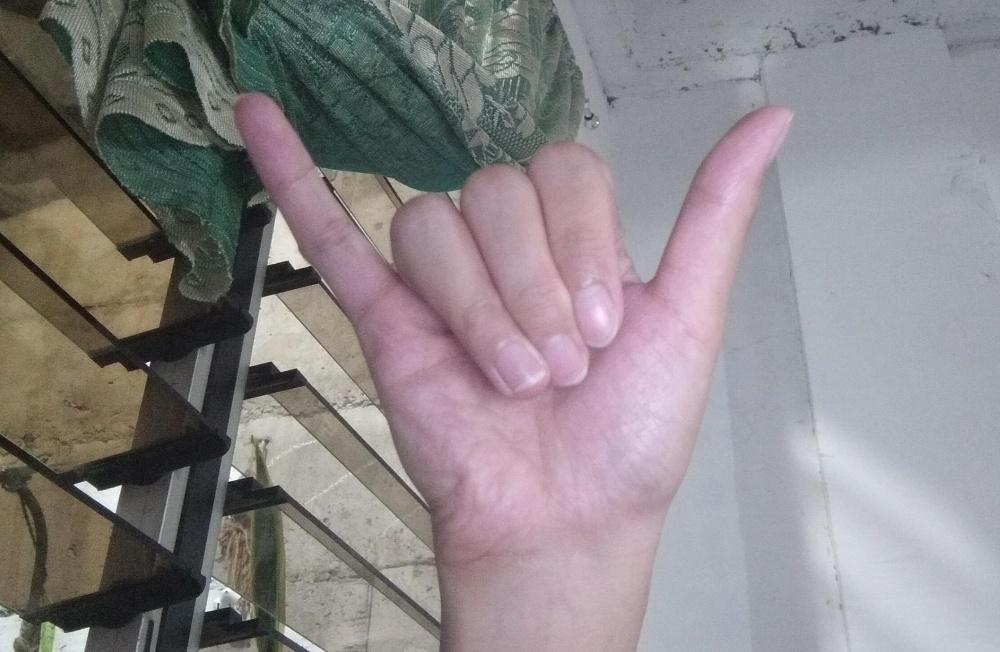y: (229, 86, 796, 572)
